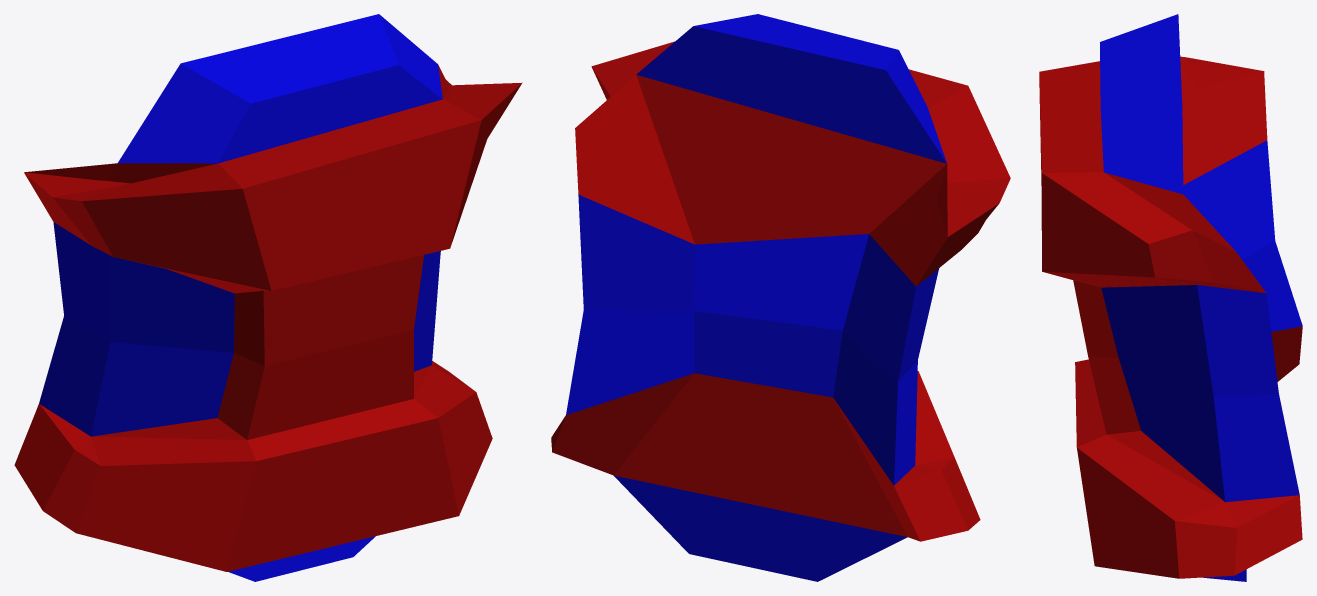
File: Chr_KneeAttachRight_Static_01.fbx
The picture shows the model from 3 angles, left to right: view 1: azimuth 30°, elevation 25°; view 2: azimuth 150°, elevation 25°; view 3: azimuth 270°, elevation 25°; orthographic projection. The views are drawn at different scales.
Visible parts, largest first — view 1: Chr_KneeAttachRight_01; view 2: Chr_KneeAttachRight_01; view 3: Chr_KneeAttachRight_01.
Part boxes in pixels (left/top/right/bottom): Chr_KneeAttachRight_01: left=14, top=14, right=522, bottom=581; Chr_KneeAttachRight_01: left=551, top=14, right=1010, bottom=581; Chr_KneeAttachRight_01: left=1039, top=14, right=1302, bottom=581.
Size of the model in its own units: 15.55 by 17.31 by 8.44.
